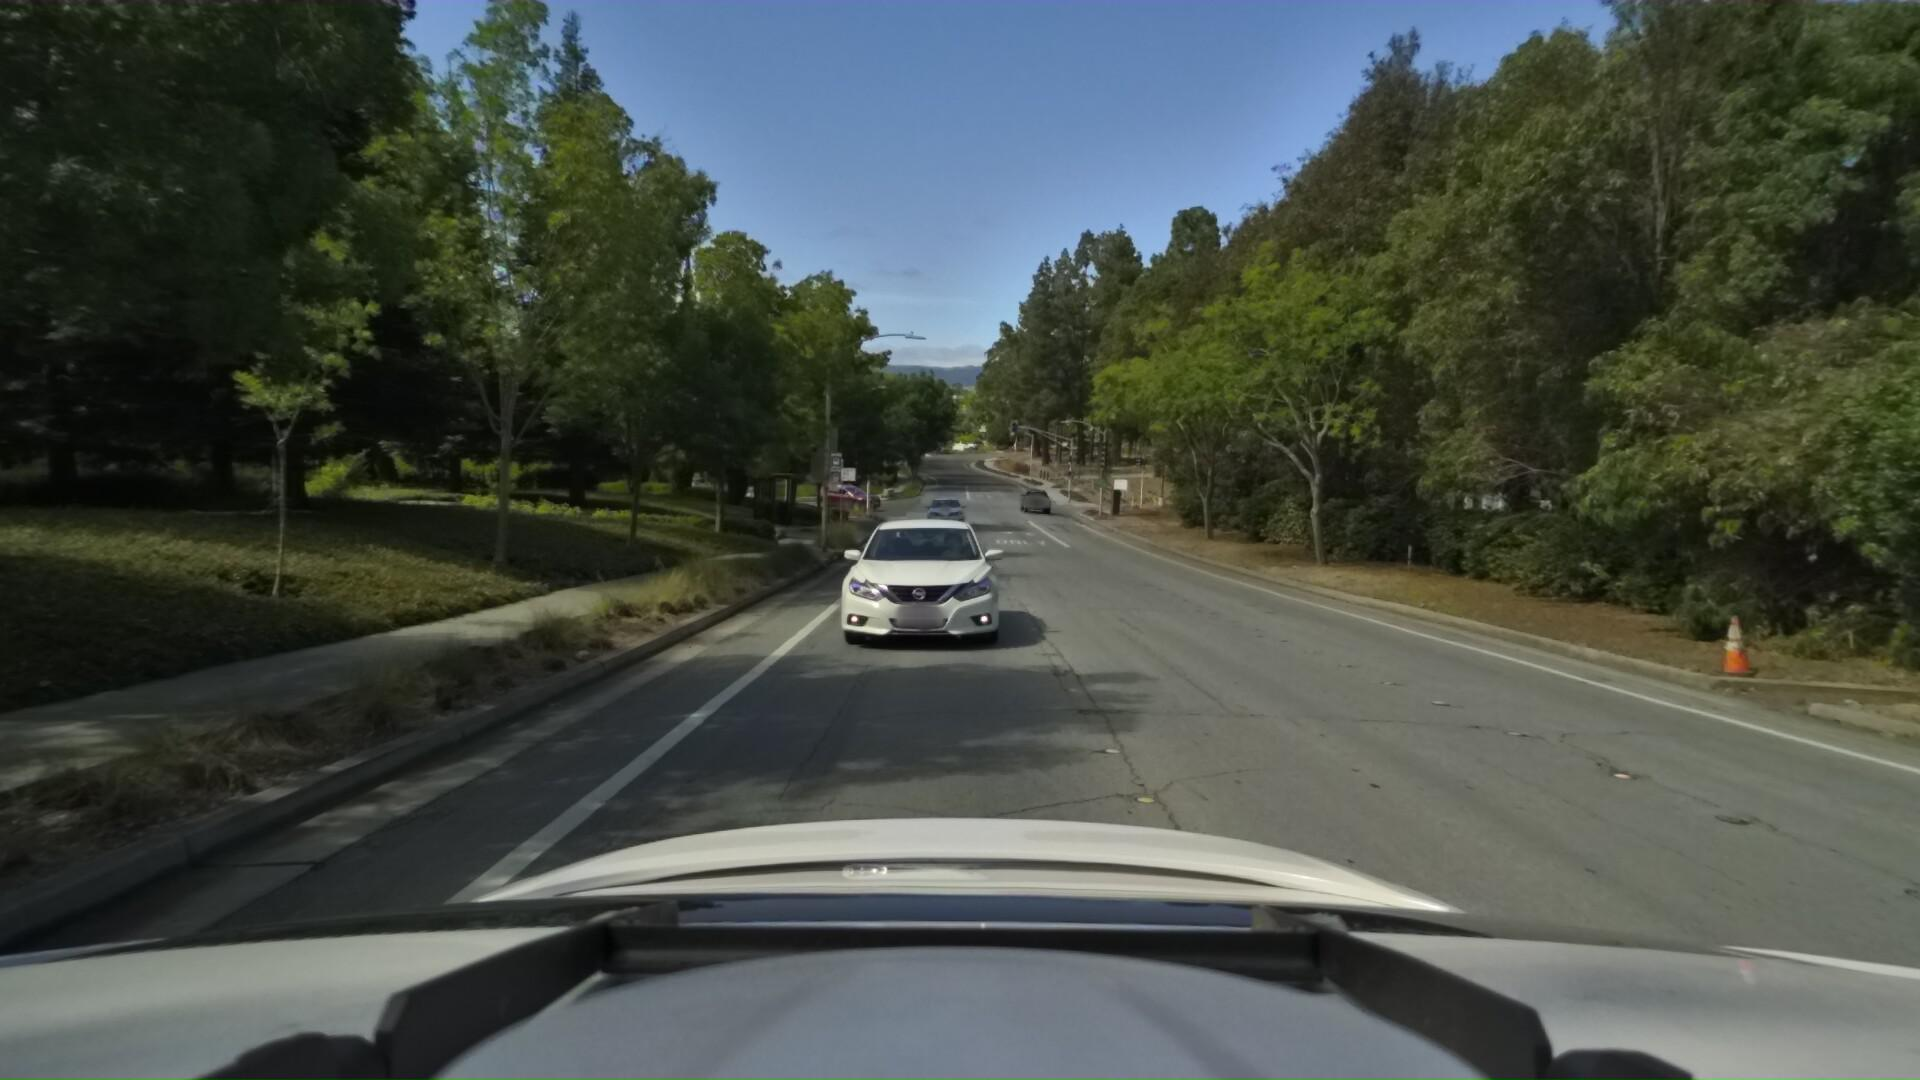car: (825, 488, 1007, 665), (808, 483, 889, 514), (924, 491, 963, 530), (1018, 481, 1056, 513)
